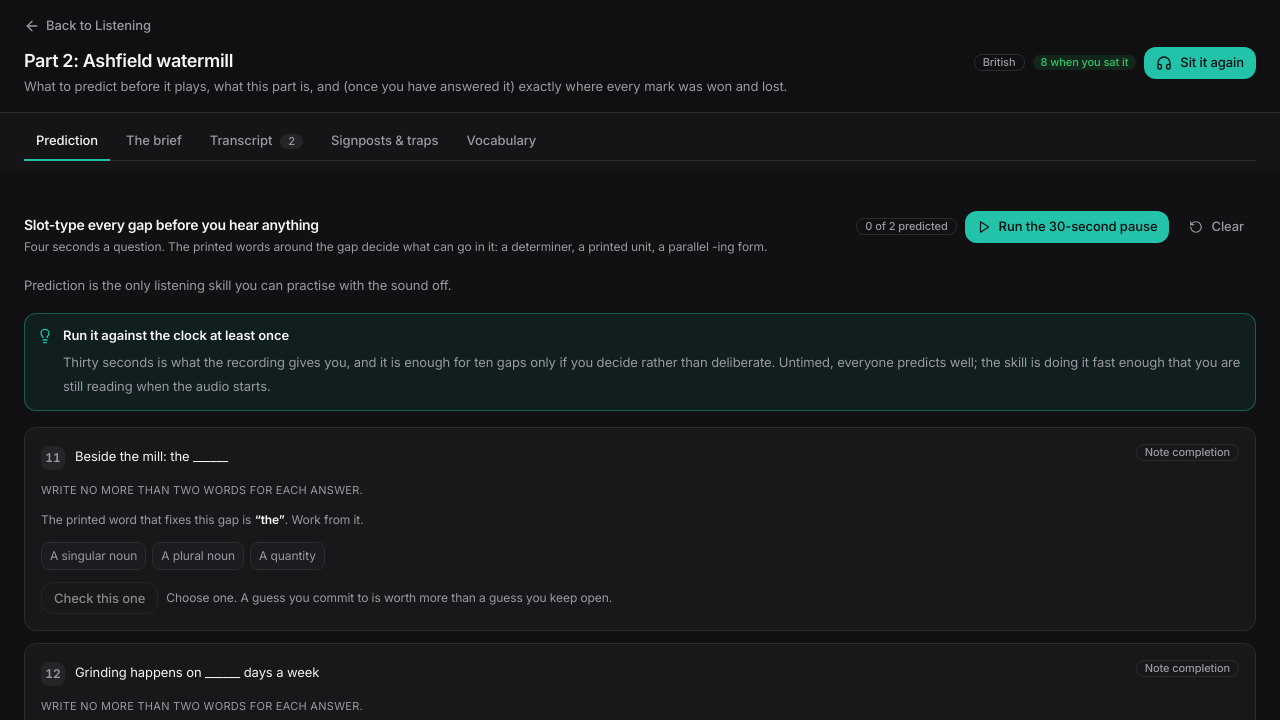
Test: the listening coach › opens the transcript after a submitted attempt, with every line playable
Check: the heading "Part 2: Ashfield watermill" is shown, box [24,50,233,71]
Click the tab "Transcript 2" at (256, 142), box [198,123,315,161]
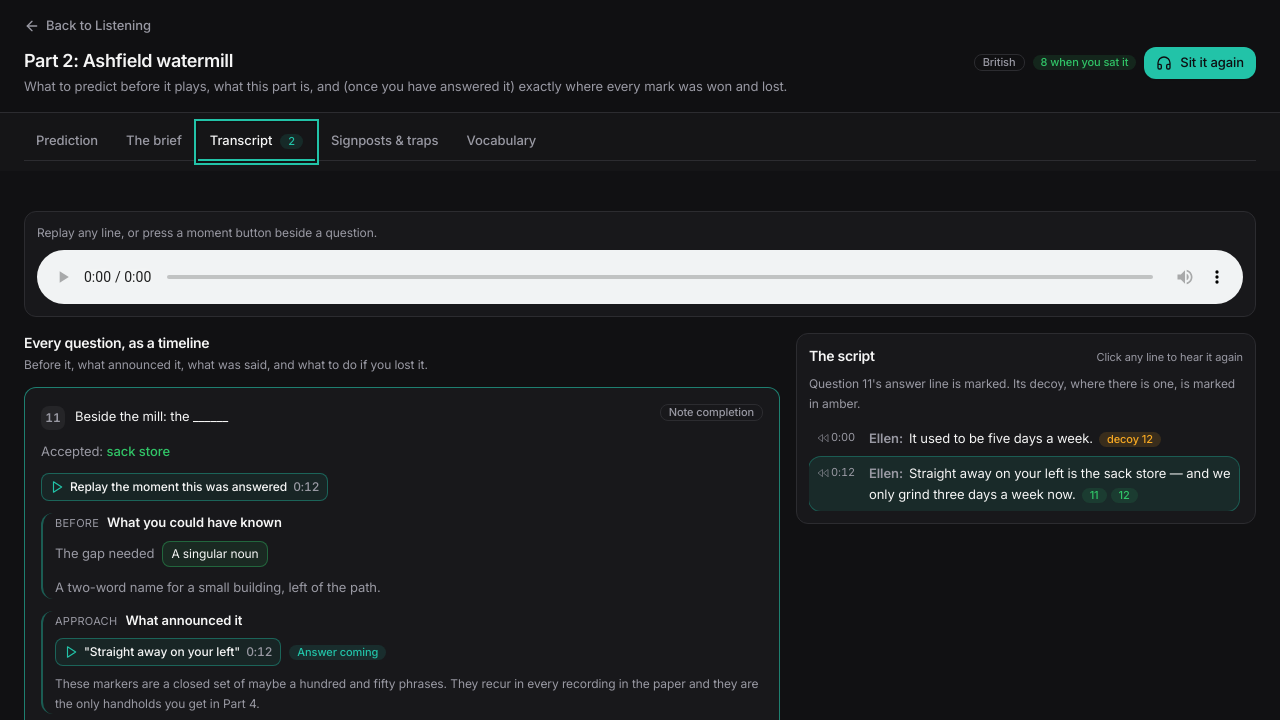
Check: the button named "Play line 2 from 0:12" is shown, box [809,457,1239,511]
Check: the button named "Play line 1 from 0:00" is shown, box [809,422,1239,455]
